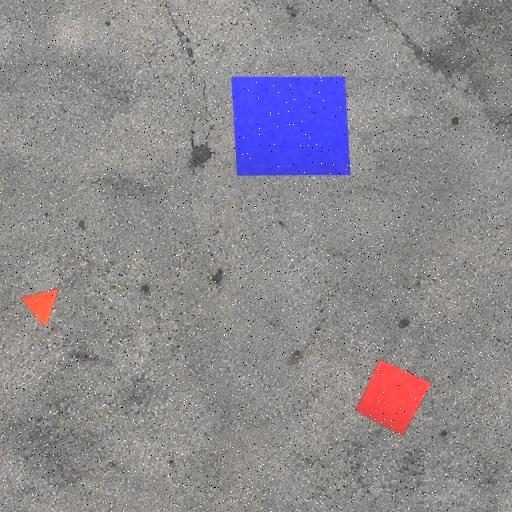BLUE_SQUARE: (231, 76, 351, 176)
RED_SQUARE: (354, 359, 432, 437)
